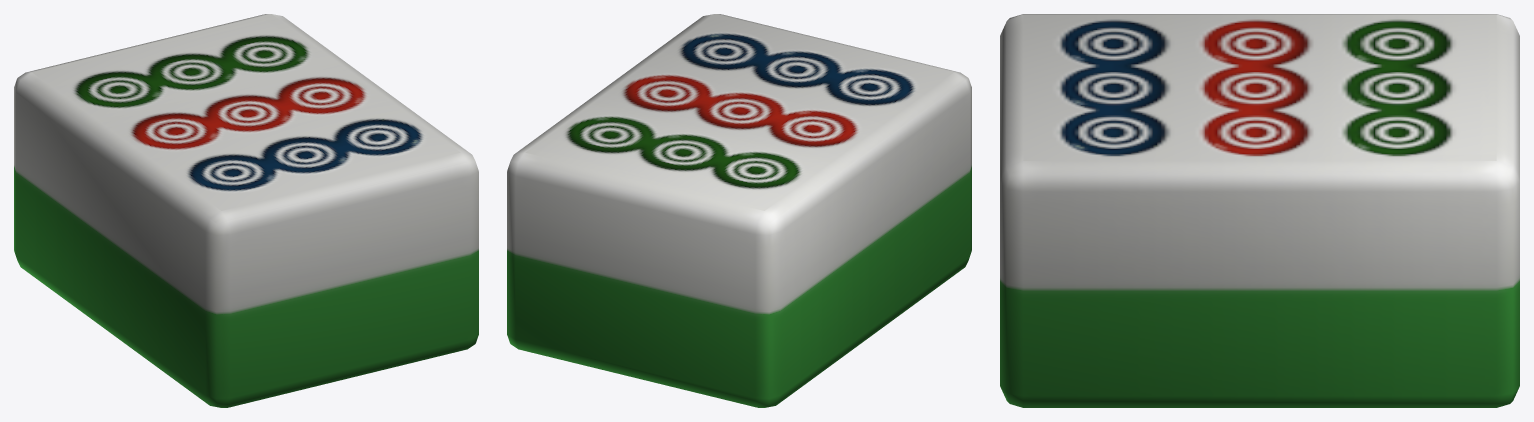
File: MJBlock.fbx
3 views of the same model, side by side, from view 1: azimuth 30°, elevation 25°; view 2: azimuth 150°, elevation 25°; view 3: azimuth 270°, elevation 25° (orthographic). The views are drawn at different scales.
Visible parts, largest first — view 1: Cube; view 2: Cube; view 3: Cube.
Boxes of the visible parts, left/top/right/bottom form: Cube: left=14, top=14, right=478, bottom=407; Cube: left=507, top=14, right=971, bottom=407; Cube: left=1000, top=14, right=1519, bottom=407.
Size of the model in its own units: 158 by 109 by 209.
